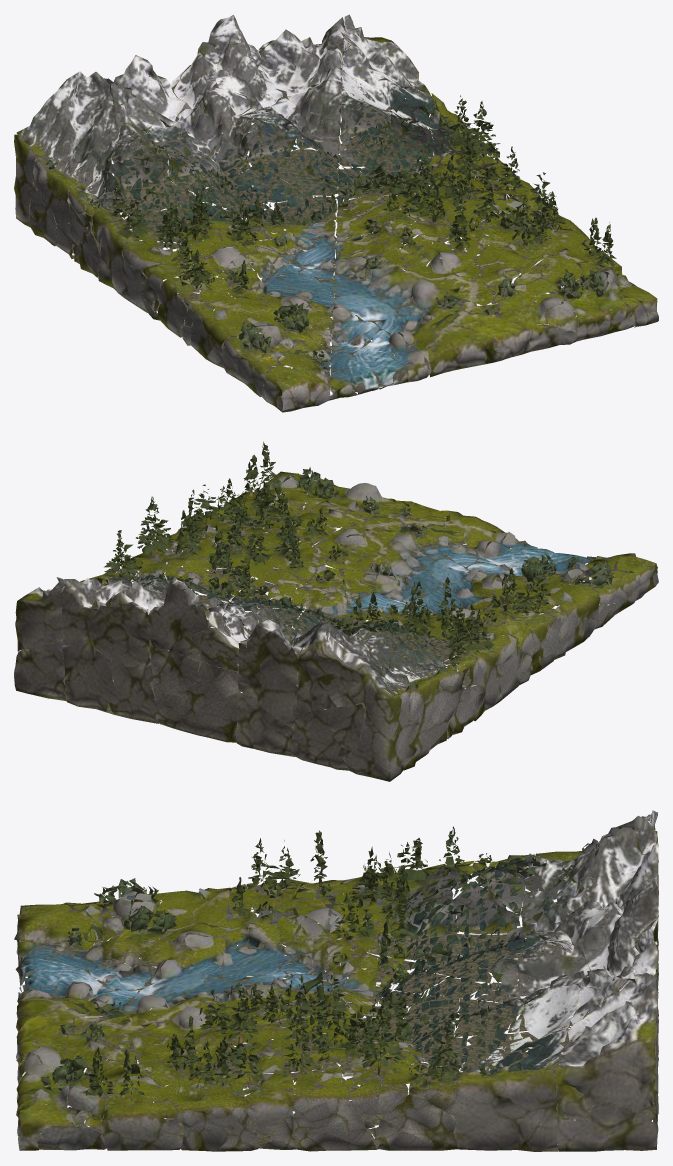
File: alpine_serenity_opt.glb
3 views of the same model, one above another, from view 1: azimuth 30°, elevation 25°; view 2: azimuth 150°, elevation 25°; view 3: azimuth 270°, elevation 25° (orthographic). The views are drawn at different scales.
Parts seen in each view (by area): view 1: alpine_serenity_opt; view 2: alpine_serenity_opt; view 3: alpine_serenity_opt.
Part boxes in pixels (<box>): alpine_serenity_opt: <box>14,14,658,412</box>; alpine_serenity_opt: <box>14,441,658,781</box>; alpine_serenity_opt: <box>14,810,658,1151</box>.
Size of the model in its own units: 1.55 by 0.5941 by 1.91.
1 material, 1 textured.
